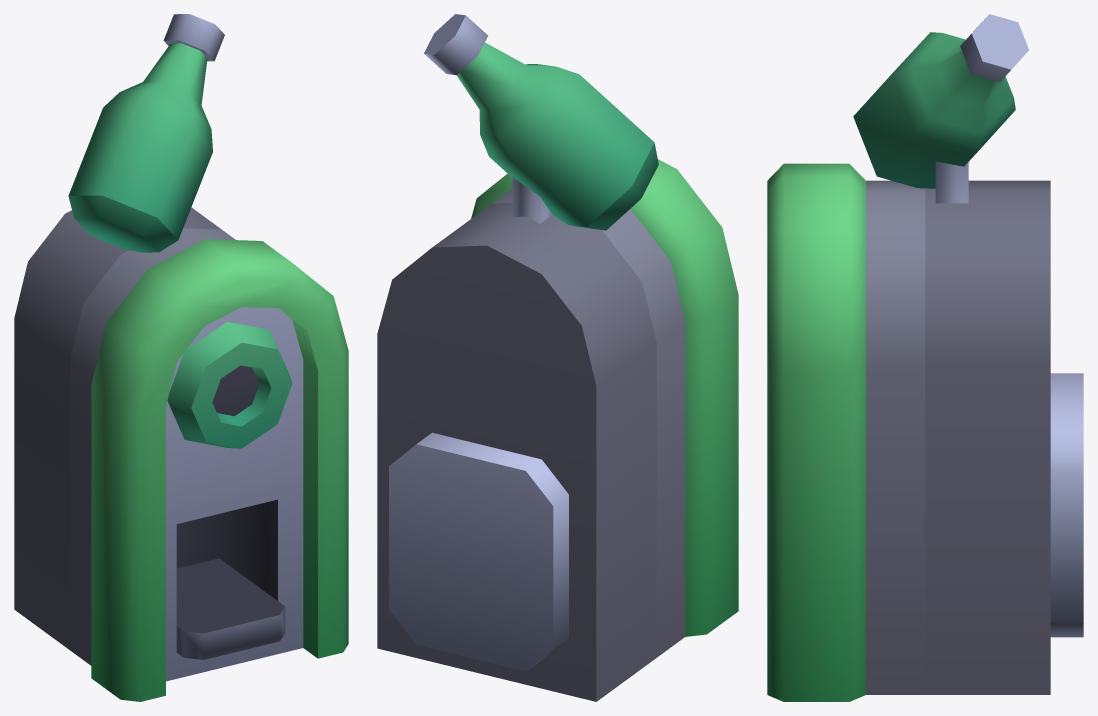
File: bottle-return.obj
3 renders of one model, left to right at view 1: azimuth 30°, elevation 25°; view 2: azimuth 150°, elevation 25°; view 3: azimuth 270°, elevation 25°, orthographic. The views are drawn at different scales.
Visible parts, largest first — view 1: bottle-return; view 2: bottle-return; view 3: bottle-return.
Part boxes in pixels (x1,y1,x2,y2): bottle-return: [14, 14, 348, 701]; bottle-return: [377, 14, 738, 701]; bottle-return: [767, 14, 1083, 701].
Size of the model in its own units: 0.45 by 1.09 by 0.481.
Materials: 1 (1 with a texture image).
